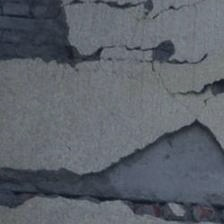crack: (144, 58, 206, 110), (90, 36, 159, 67), (153, 1, 210, 37), (65, 1, 140, 25)
spalling: (1, 117, 224, 224), (1, 1, 109, 75), (147, 35, 182, 71), (206, 74, 224, 99), (138, 1, 154, 19)
